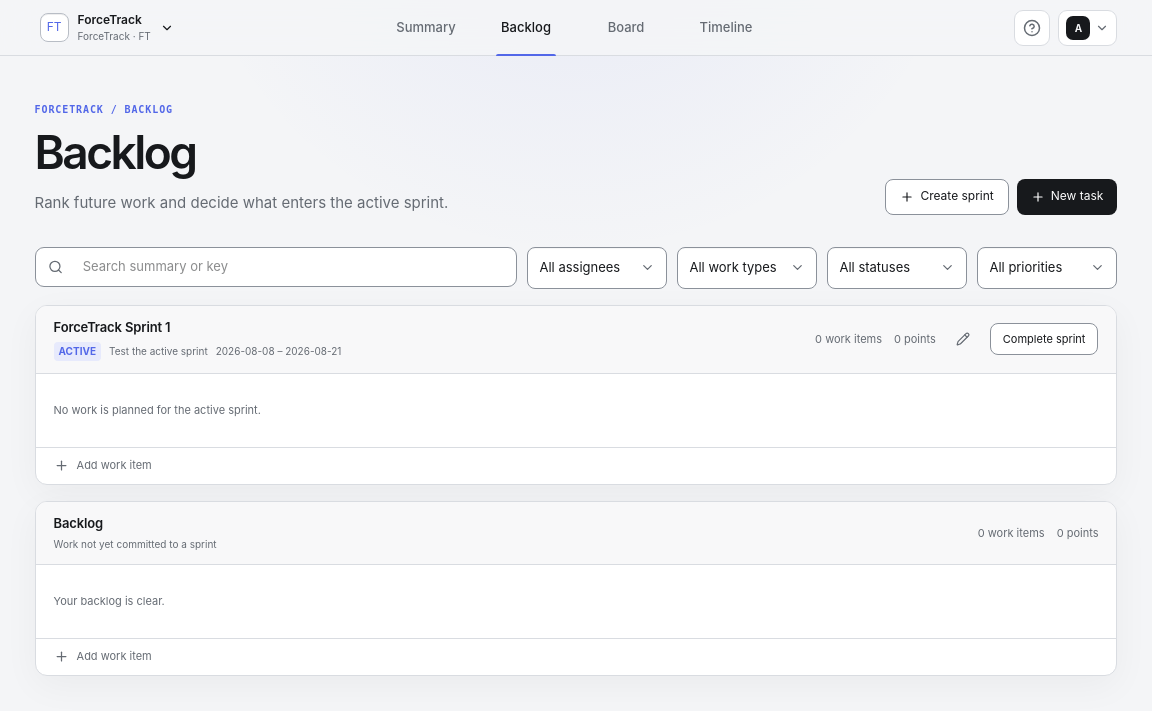
Test case: Backlog planning › creates a planned sprint and persists it as a backlog section
Click the button "Create sprint" at coordinates (947, 196), box [885, 178, 1009, 214]
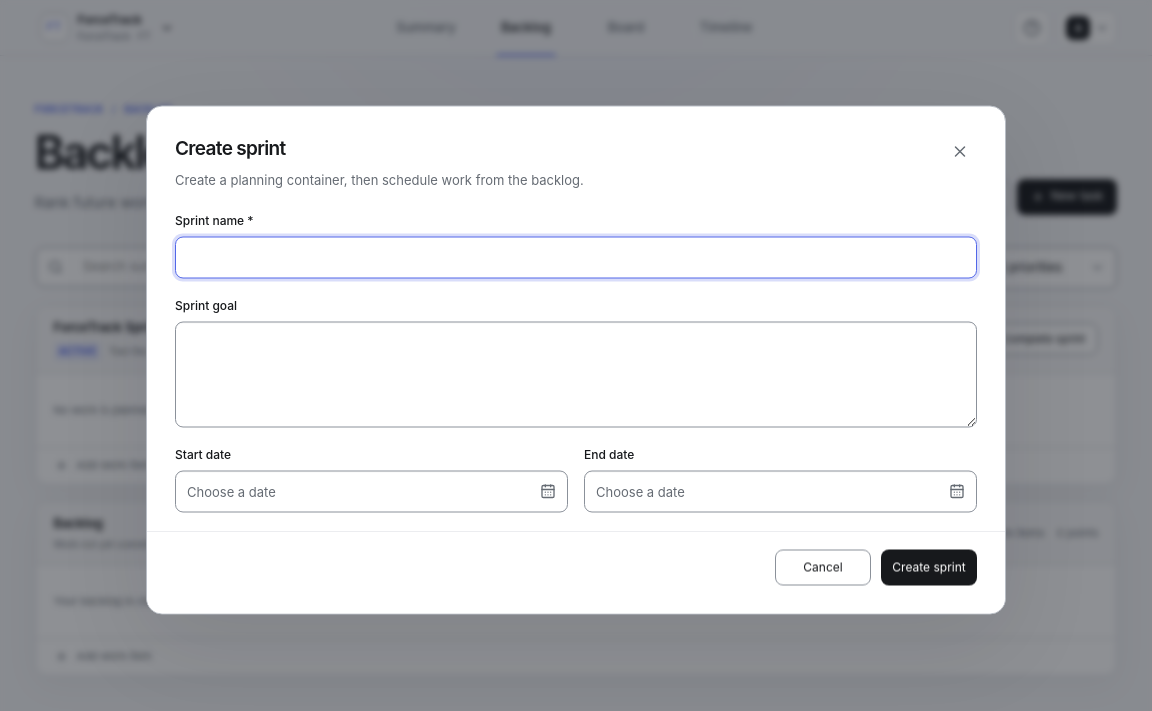
Type "Sprint 2" into the field labelled "Sprint name *" at coordinates (576, 258), box [175, 236, 977, 278]
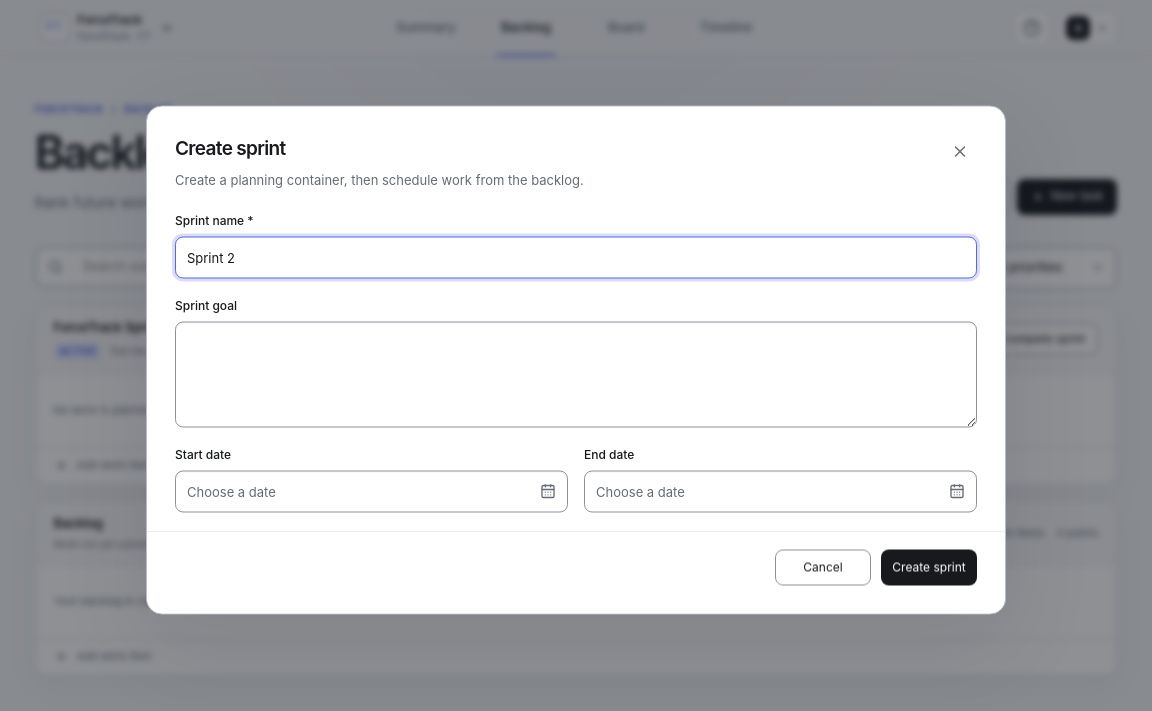
Type "Finish the reporting flow" into the text box labelled "Sprint goal" at coordinates (576, 374), box [175, 322, 977, 428]
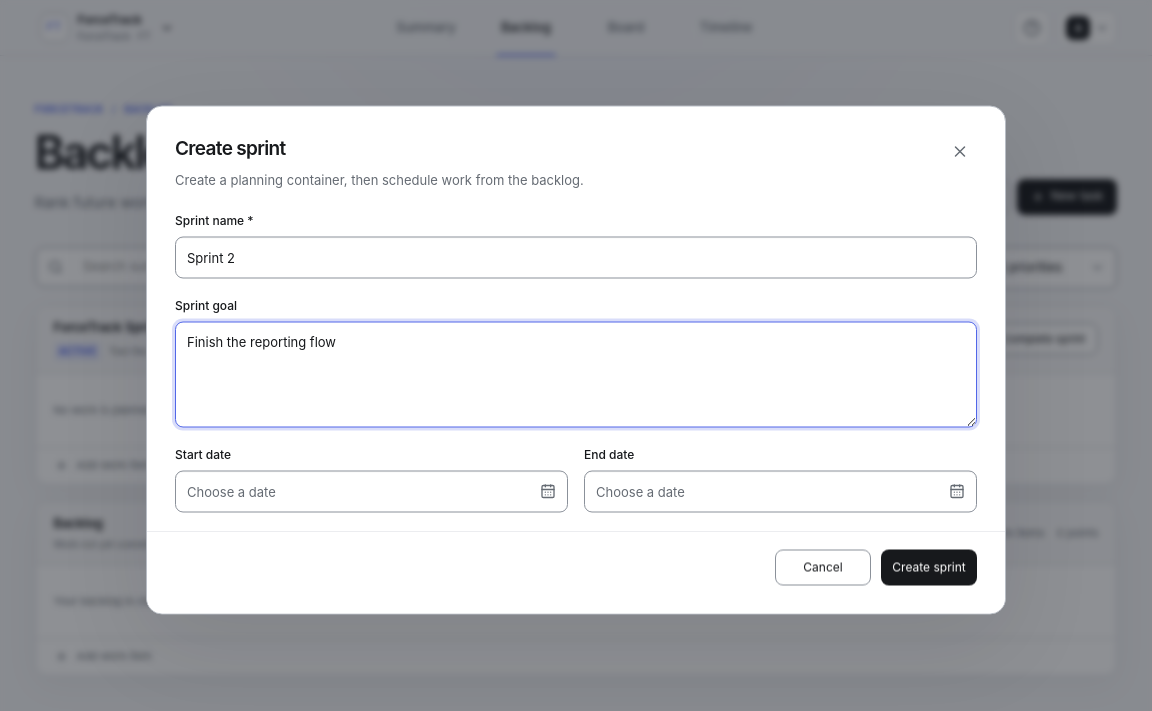
Click the button "Create sprint" at coordinates (929, 568), box [881, 550, 977, 586]
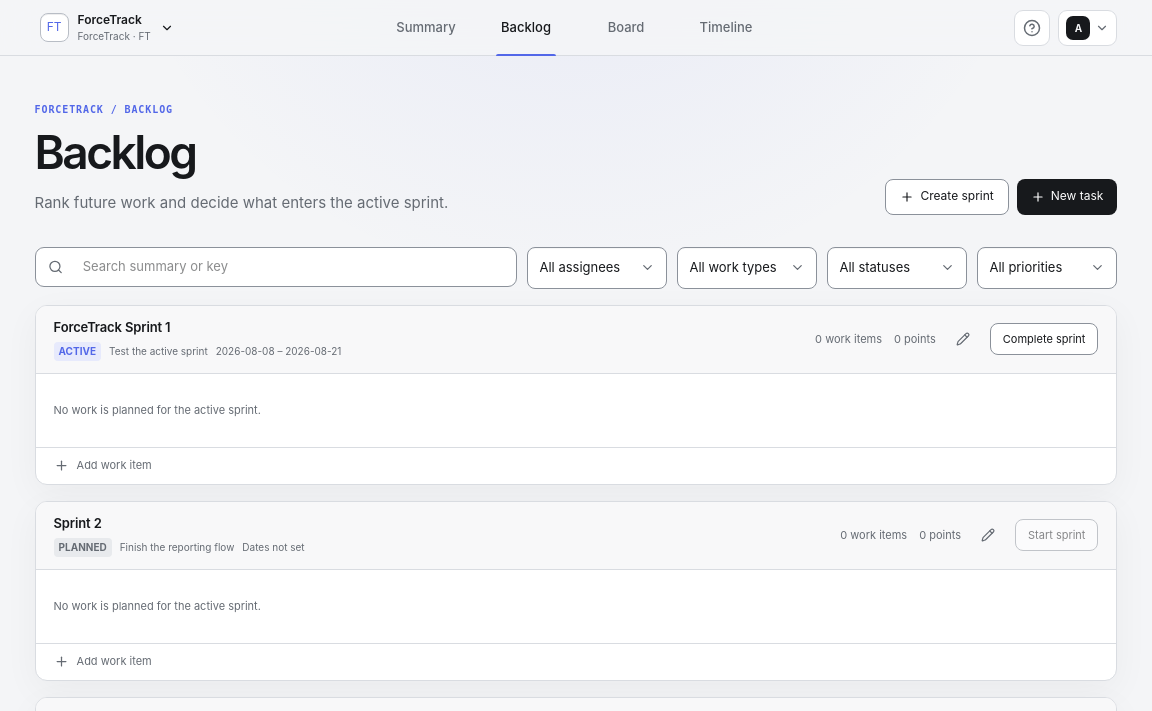
Expected: the heading "Sprint 2" is shown, [54, 514, 102, 530]
